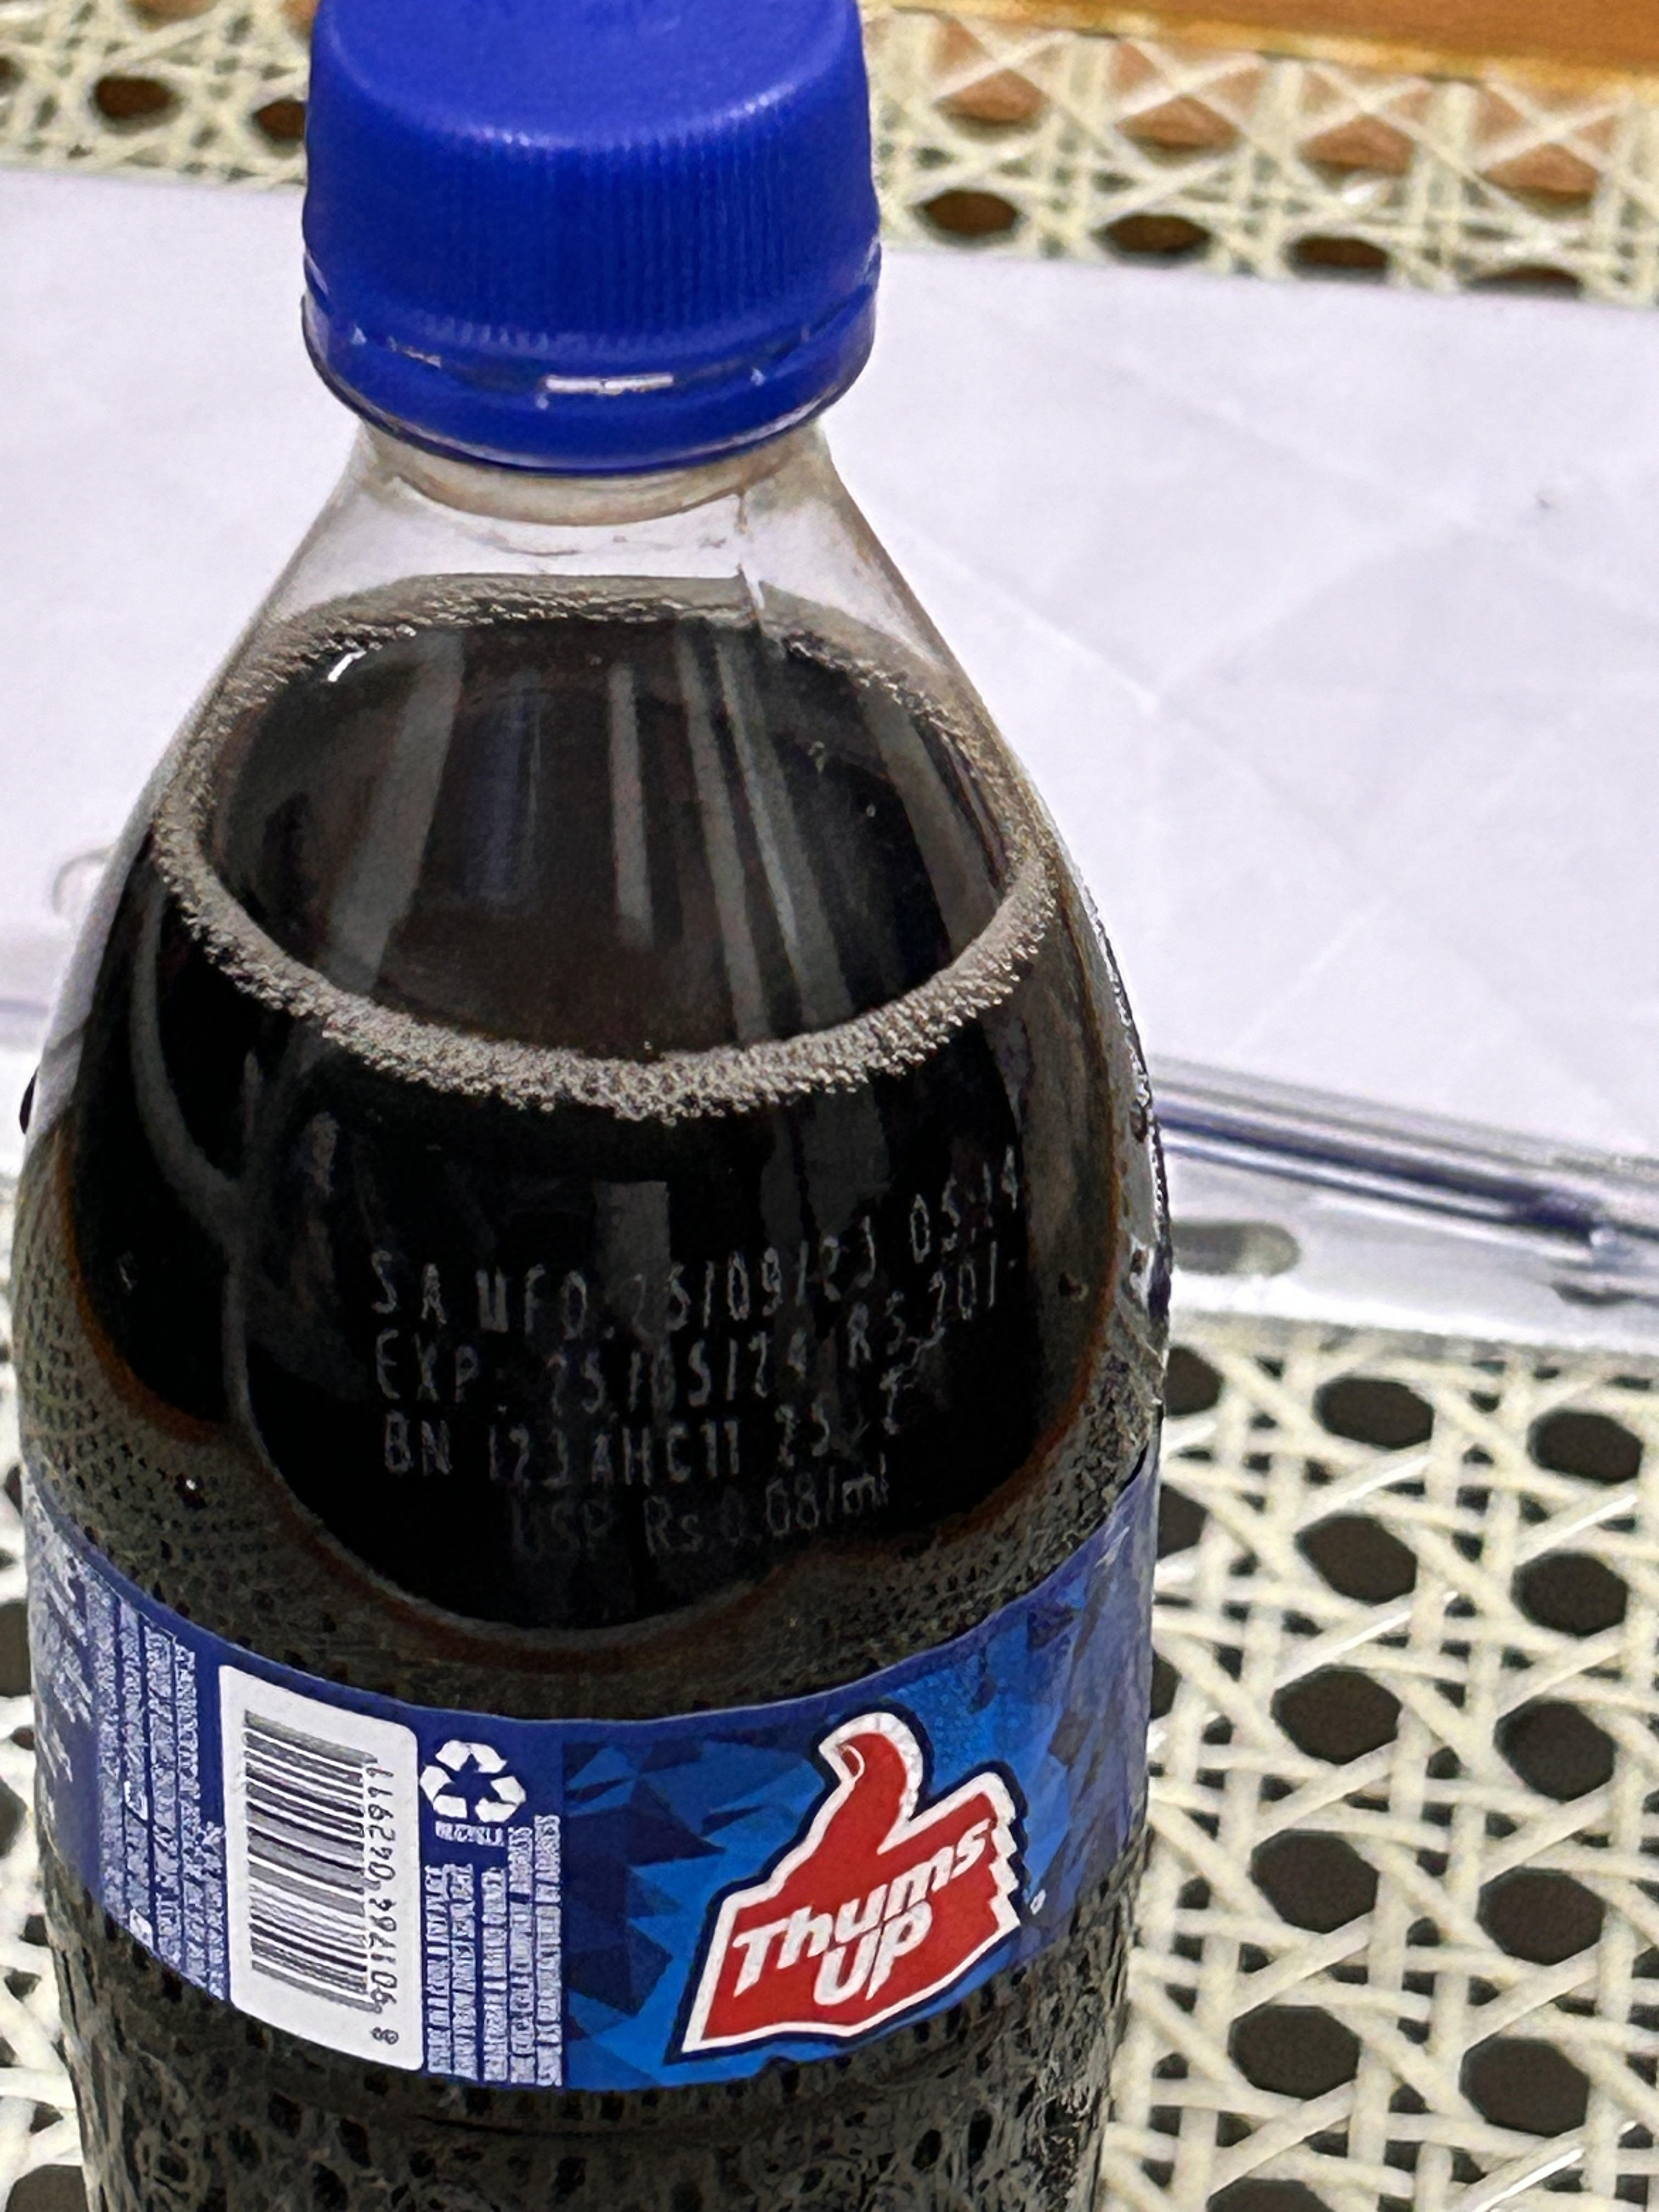unsealed: (263, 3, 918, 516)
